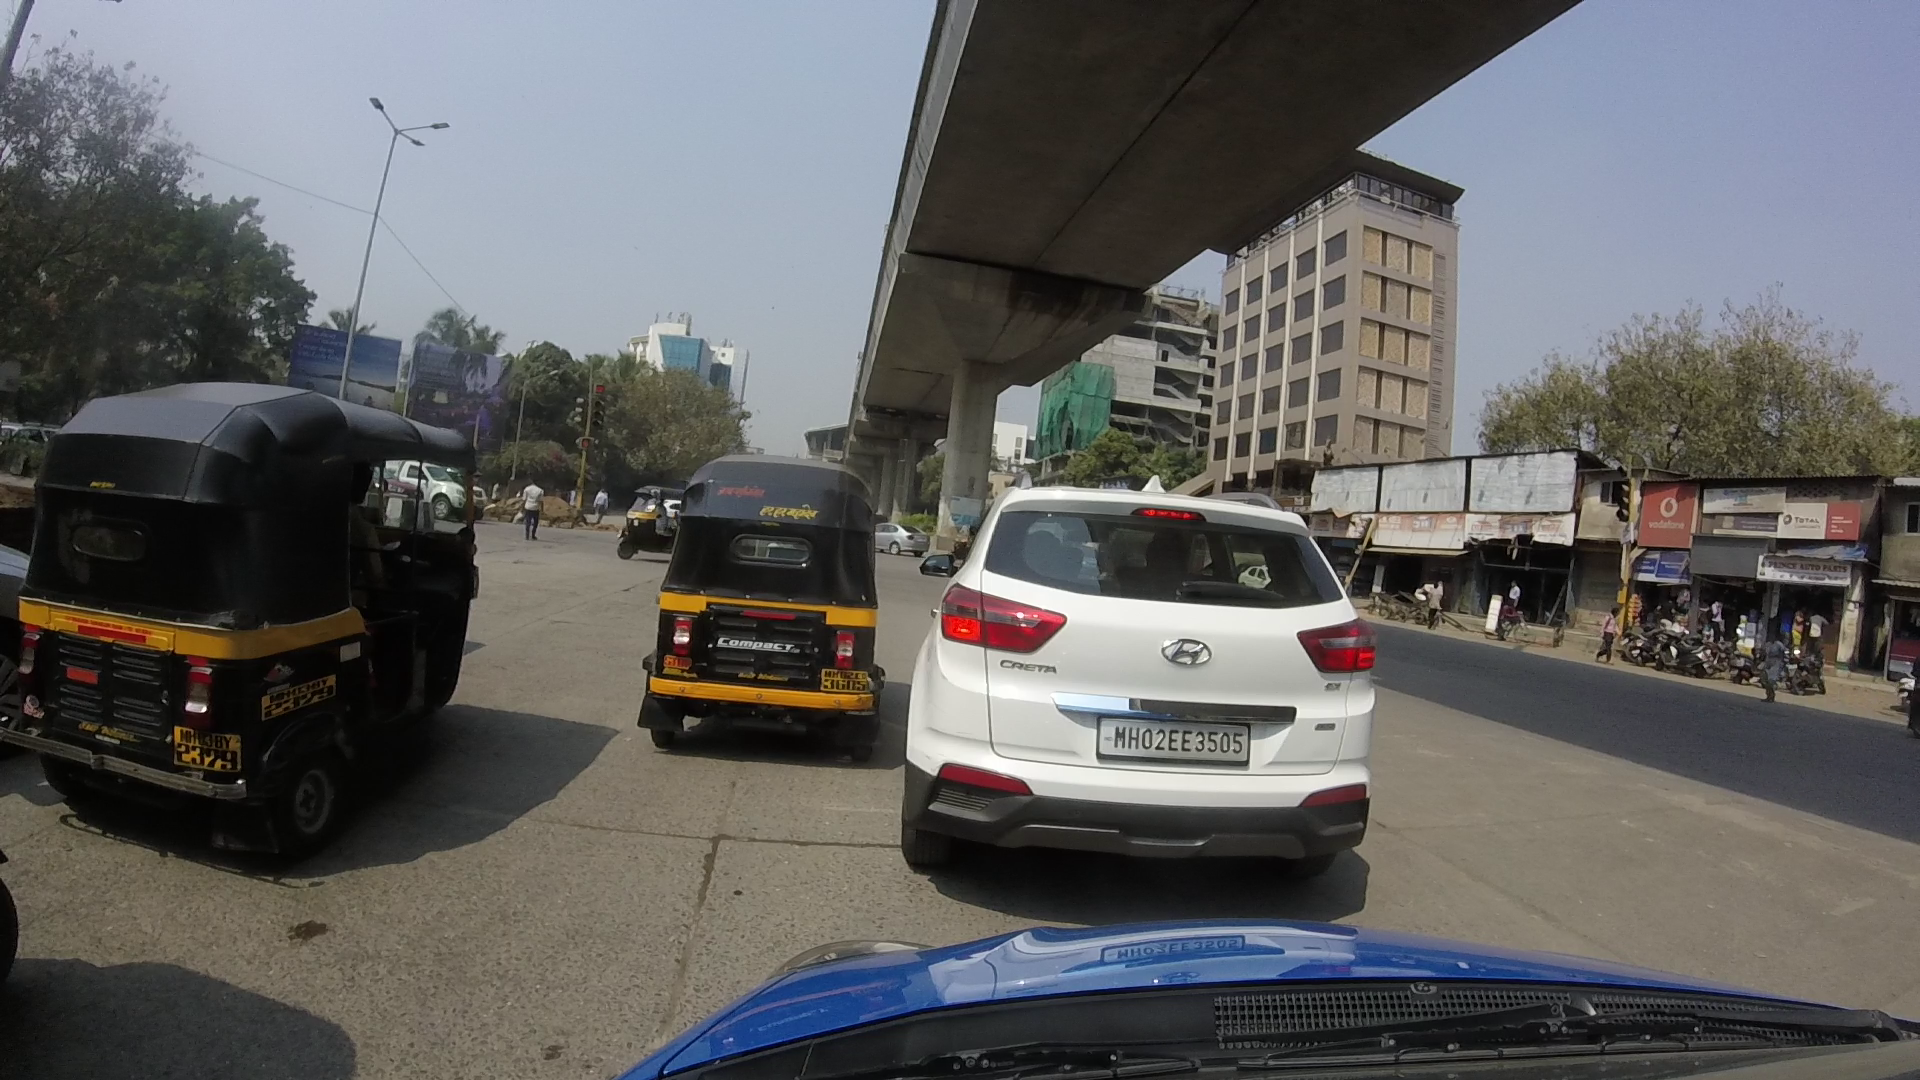car: (907, 463, 1404, 843)
rickshaw: (13, 360, 481, 833), (615, 419, 910, 760), (596, 469, 680, 560)
